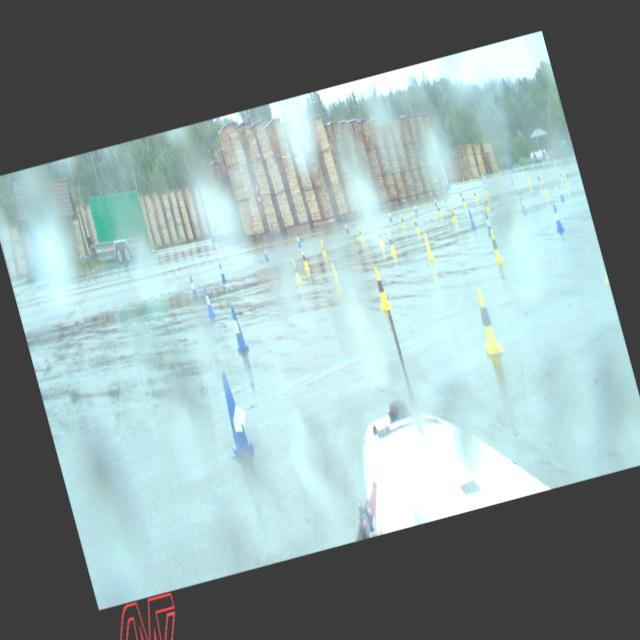blue_cone: (210, 368, 257, 459), (227, 305, 250, 352), (200, 286, 216, 318), (550, 203, 565, 233), (188, 274, 200, 300), (482, 212, 493, 236), (518, 192, 528, 215), (466, 208, 476, 230), (218, 262, 226, 282), (261, 244, 269, 261), (556, 184, 564, 201), (294, 232, 302, 248), (342, 220, 349, 233), (412, 200, 418, 212), (534, 166, 540, 178), (387, 209, 392, 222), (442, 191, 447, 202), (457, 186, 462, 197), (508, 174, 513, 185), (564, 166, 568, 177), (432, 196, 437, 204), (486, 168, 490, 176), (478, 172, 481, 179), (486, 172, 488, 178)
orange_cone: (521, 164, 524, 171), (482, 172, 484, 180)
yellow_cone: (469, 286, 504, 356), (370, 265, 392, 311), (484, 226, 502, 265), (328, 261, 345, 296), (420, 231, 434, 260), (290, 258, 302, 284), (384, 230, 396, 253), (298, 248, 310, 270), (318, 238, 328, 258), (375, 227, 384, 247), (411, 214, 420, 234), (448, 206, 457, 223), (482, 196, 490, 214), (356, 224, 364, 240), (398, 213, 406, 229), (460, 192, 467, 208), (435, 202, 442, 216), (562, 174, 569, 188), (516, 188, 522, 204), (540, 181, 547, 194), (472, 188, 478, 201), (558, 169, 564, 182), (482, 184, 488, 196), (526, 173, 530, 185), (497, 178, 501, 188), (530, 161, 534, 170), (469, 174, 473, 182), (461, 175, 465, 182), (468, 173, 470, 180), (498, 168, 501, 172)
